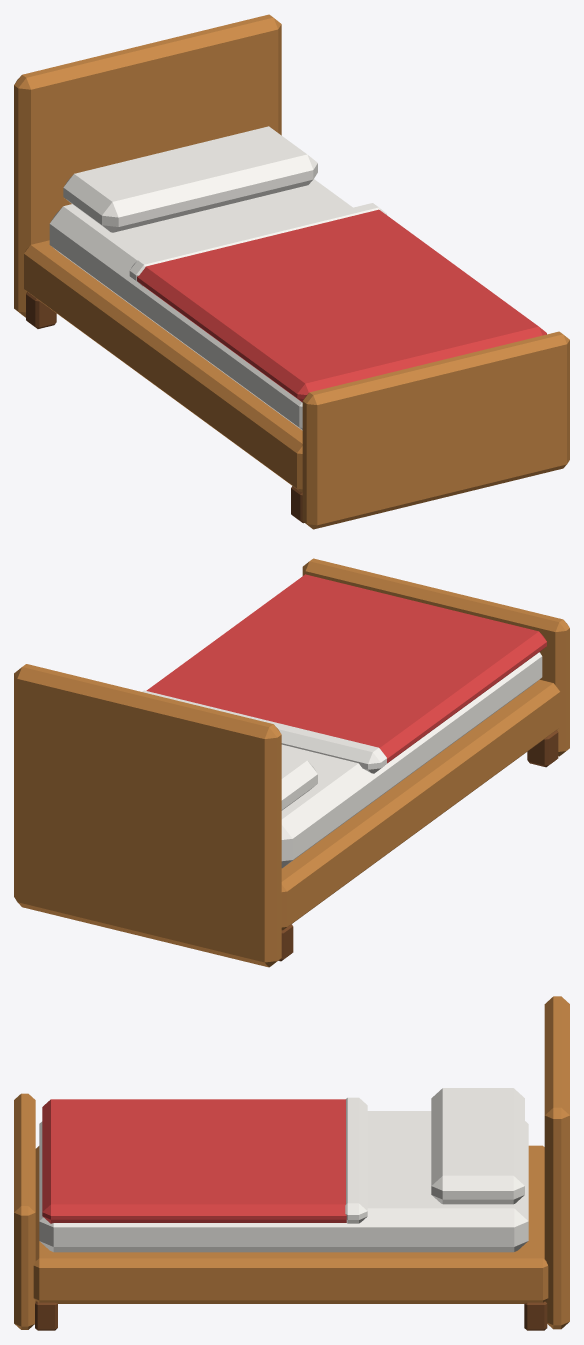
File: RedBed.fbx
The picture shows the model from 3 angles, top to bottom: view 1: azimuth 30°, elevation 25°; view 2: azimuth 150°, elevation 25°; view 3: azimuth 270°, elevation 25°; orthographic projection. The views are drawn at different scales.
Parts seen in each view (by area): view 1: RedBed; view 2: RedBed; view 3: RedBed.
Boxes of the visible parts, <box> form: RedBed: <box>14,14,569,529</box>; RedBed: <box>14,558,569,967</box>; RedBed: <box>14,996,569,1330</box>.
Bounding box in the file's own units: 3.9 × 3.4 × 7.73.
Materials: 1 (1 with a texture image).
